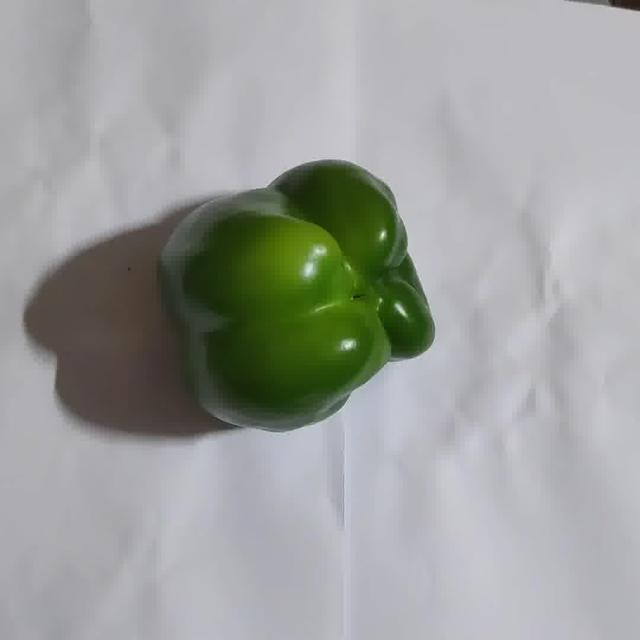Bell Pepper: (161, 159, 434, 432)
